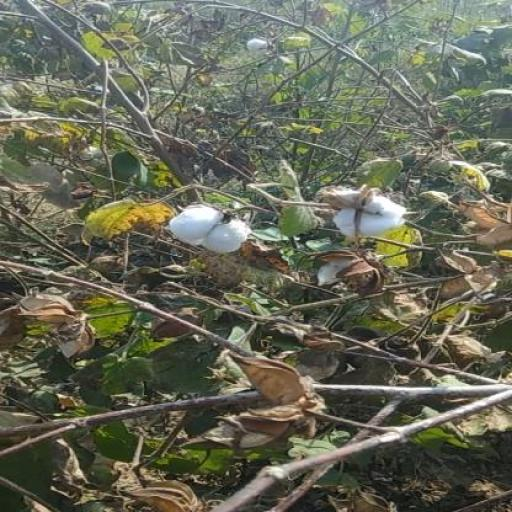cotton_ready: (317, 178, 421, 252), (175, 195, 268, 267)
